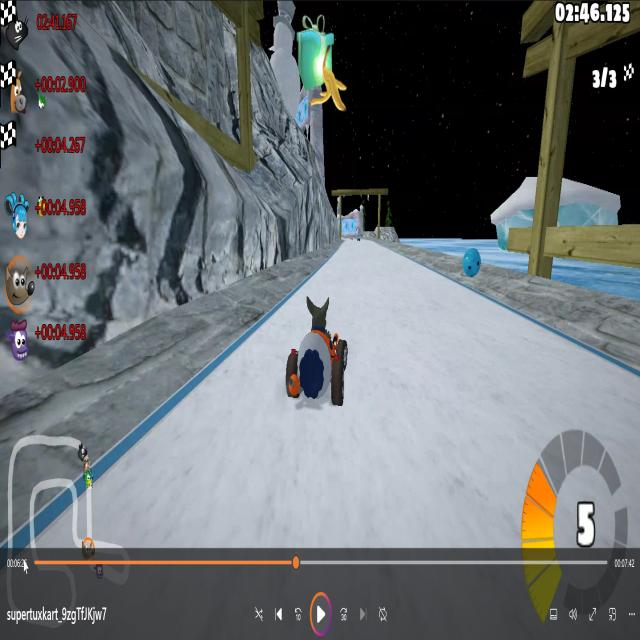obstacle: (462, 247, 482, 274)
player_kart: (288, 294, 344, 408)
track: (329, 245, 400, 306)
